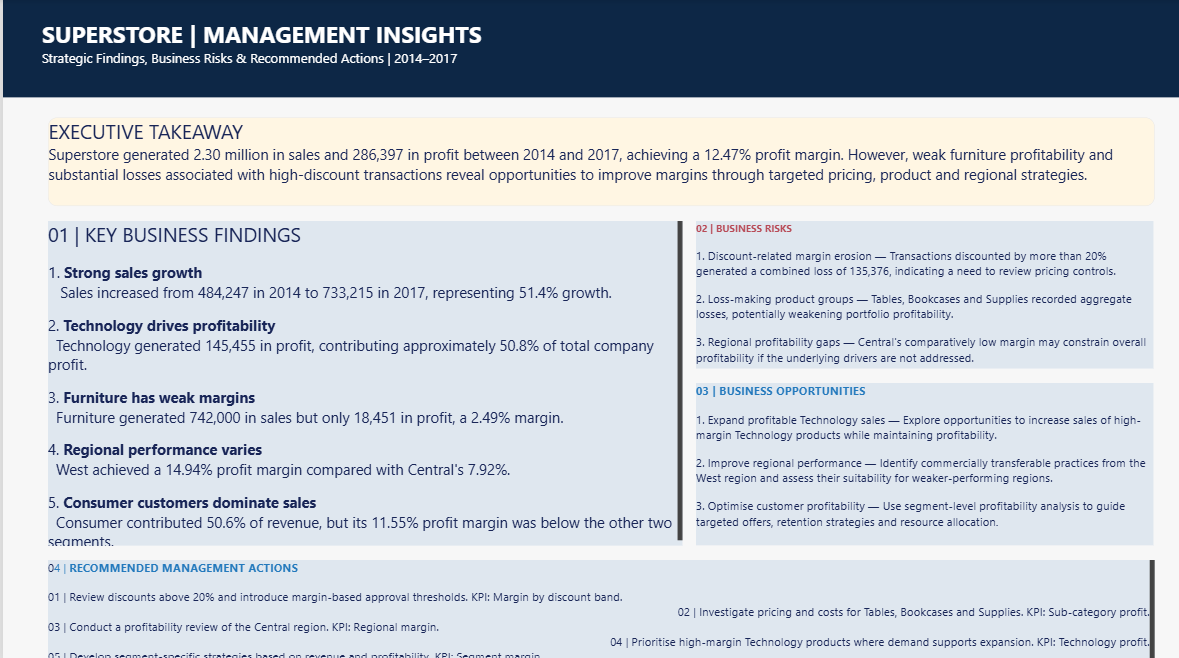

What the dashboard file says about the page in this screenshot:
{"tool":"powerbi","page":{"name":"Management Insights","canvas":[1920,1080],"ordinal":2},"visuals":[{"type":"shape","box":[0,0,1920,160],"z":0},{"type":"textbox","box":[64,32,1792,128],"z":1000},{"type":"textbox","box":[72,192,1800,144],"z":2000},{"type":"textbox","box":[72,360,1032,528],"z":3000},{"type":"textbox","box":[1128,360,744,240],"z":4000},{"type":"textbox","box":[1128,624,744,264],"z":5000},{"type":"textbox","box":[72,912,1800,168],"z":5001}]}

Visuals, with their boxes in screenshot pixels (x1, y1, x2, y2), scaled from the page's 1920x1080 canvas onto the 1179x658 screenshot:
shape: [0, 0, 1178, 97]
textbox: [39, 19, 1140, 97]
textbox: [44, 117, 1150, 205]
textbox: [44, 219, 678, 541]
textbox: [693, 219, 1150, 366]
textbox: [693, 380, 1150, 541]
textbox: [44, 556, 1150, 657]
